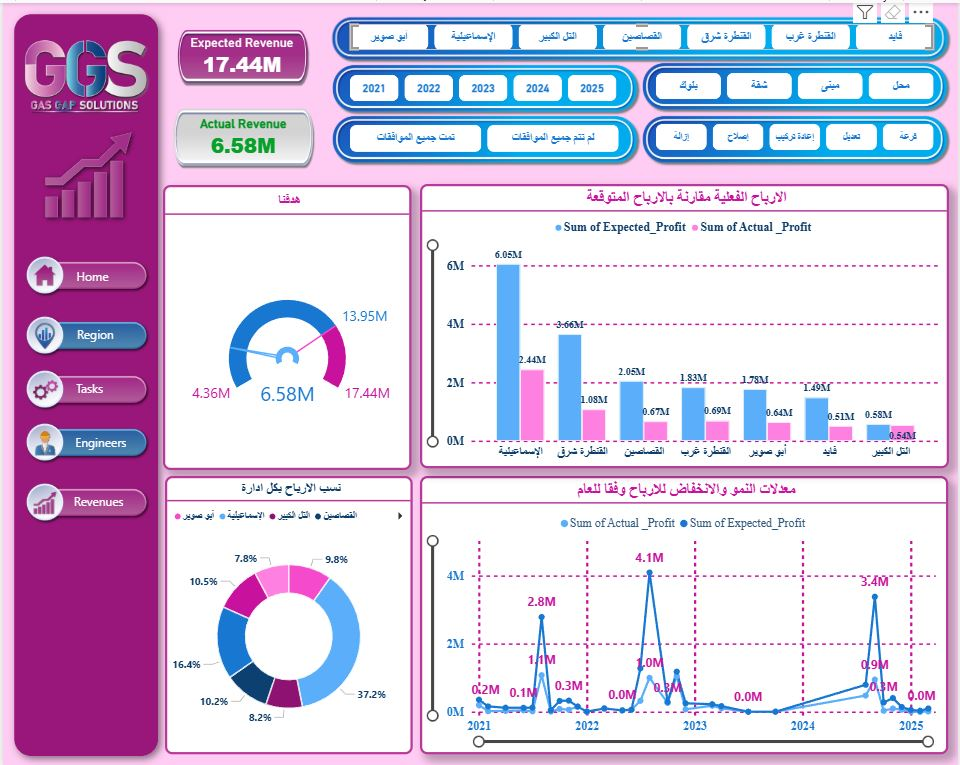

What the dashboard file says about the page in this screenshot:
{"tool":"powerbi","page":{"name":"Revenues","canvas":[1280,1024],"ordinal":4},"visuals":[{"type":"image","box":[219.6,130,205,101.7],"z":0},{"type":"image","box":[212.1,28.3,220,90],"z":1000},{"type":"image","box":[428.6,0,851.4,95.7],"z":2000},{"type":"image","box":[428.6,99.1,435.7,168.6],"z":3000},{"type":"image","box":[844.3,99.1,435.7,168.6],"z":4000},{"type":"image","box":[844.3,28.7,435.7,168.6],"z":5000},{"type":"image","box":[428.6,30.2,435.7,168.6],"z":6000},{"type":"advancedSlicerVisual","title":"المنطقة - الادارة","fields":{"Values":["Region1.Region_Name"]},"box":[465,28.3,783.3,35],"z":7000},{"type":"advancedSlicerVisual","title":"السنة","fields":{"Values":["Customers.Order_Date.Variation.Date Hierarchy.Year"]},"box":[465,96.2,361.2,35],"z":8000},{"type":"advancedSlicerVisual","title":"نوع المبني","fields":{"Values":["Building.Building_Type"]},"box":[875,93.8,373.8,35],"z":9000},{"type":"advancedSlicerVisual","title":"المهمة المطلوبة","fields":{"Values":["To_Do.To_Do"]},"box":[875,162.5,373.8,35],"z":10000},{"type":"advancedSlicerVisual","title":"نوع الموافقة","fields":{"Values":["Customers.Approve"]},"box":[465,163.8,361.2,36.2],"z":11000},{"type":"card","title":"Actual Revenue","fields":{"Values":["Sum(Cost_Profit.Net_Profit_Done)"]},"box":[235,151.7,175,65],"z":12000},{"type":"shape","box":[0,0,222.9,1024.3],"z":13000},{"type":"image","box":[15.7,35.7,190,125.7],"z":14000},{"type":"image","box":[15.7,308.4,192,112],"z":15000},{"type":"image","box":[15.7,396.4,192,96],"z":16000},{"type":"image","box":[15.7,468.4,192,96],"z":17000},{"type":"image","box":[15.7,540.4,192,96],"z":18000},{"type":"image","box":[15.7,612.4,192,112],"z":19000},{"type":"actionButton","box":[63.1,334.6,114.3,60],"z":20000},{"type":"actionButton","box":[60,420,127.1,48.6],"z":21000},{"type":"actionButton","box":[60,484.3,111.4,64.3],"z":22000},{"type":"actionButton","box":[58.6,555.7,144.3,64.3],"z":23000},{"type":"actionButton","box":[64.3,643.2,128,48],"z":24000},{"type":"card","title":"Expected Revenue","fields":{"Values":["Sum(Cost_Profit.Net_Profit)"]},"box":[238.3,43.3,163.3,63.3],"z":25000},{"type":"Tachometer1474636471549","title":"هدفنا","fields":{"Y":["Sum(Cost_Profit.Net_Profit_Done)"],"StartValue":["Sum(Cost_Profit.Minimum_Target)"],"EndValue":["Sum(Cost_Profit.Net_Profit)"],"TargetValue":["Sum(Cost_Profit.Target)"],"Range2StartValue":["Sum(Cost_Profit.Target)"]},"box":[215,243.3,333.3,381.7],"z":26000},{"type":"lineChart","title":"معدلات النمو والانخفاض للارباح وفقا للعام","fields":{"Y":["Sum(Cost_Profit.Net_Profit_Done)","Sum(Cost_Profit.Net_Profit)"],"Category":["Customers.Order_Date.Variation.Date Hierarchy.Year","Customers.Order_Date.Variation.Date Hierarchy.Quarter","Customers.Order_Date.Variation.Date Hierarchy.Month","Customers.Order_Date.Variation.Date Hierarchy.Day"]},"box":[558.3,633.3,708.3,373.3],"z":27000},{"type":"clusteredColumnChart","title":"الارباح الفعلية مقارنة بالارباح المتوقعة","fields":{"Y":["Sum(Cost_Profit.Net_Profit)","Sum(Cost_Profit.Net_Profit_Done)"],"Category":["Region1.Region_Name"]},"box":[558.6,242.9,708.6,381.4],"z":28000},{"type":"donutChart","title":"نسب الارباح بكل ادارة","fields":{"Category":["Region1.Region_Name"],"Y":["Sum(Cost_Profit.Actual _Profit)"]},"box":[216.7,633.3,331.7,373.3],"z":29000},{"type":"image","box":[36.7,153.3,156.7,155],"z":30000}]}

Visuals, with their boxes on the page's 1280x1024 design canvas (x1, y1, x2, y2). These are canvas units, not pixel positions in the 960x765 screenshot, which may show the page scaled, cropped or inside an application window:
image: rect(220, 130, 425, 232)
image: rect(212, 28, 432, 118)
image: rect(429, 0, 1280, 96)
image: rect(429, 99, 864, 268)
image: rect(844, 99, 1280, 268)
image: rect(844, 29, 1280, 197)
image: rect(429, 30, 864, 199)
"المنطقة - الادارة" advancedSlicerVisual: rect(465, 28, 1248, 63)
"السنة" advancedSlicerVisual: rect(465, 96, 826, 131)
"نوع المبني" advancedSlicerVisual: rect(875, 94, 1249, 129)
"المهمة المطلوبة" advancedSlicerVisual: rect(875, 162, 1249, 198)
"نوع الموافقة" advancedSlicerVisual: rect(465, 164, 826, 200)
"Actual Revenue" card: rect(235, 152, 410, 217)
shape: rect(0, 0, 223, 1024)
image: rect(16, 36, 206, 161)
image: rect(16, 308, 208, 420)
image: rect(16, 396, 208, 492)
image: rect(16, 468, 208, 564)
image: rect(16, 540, 208, 636)
image: rect(16, 612, 208, 724)
actionButton: rect(63, 335, 177, 395)
actionButton: rect(60, 420, 187, 469)
actionButton: rect(60, 484, 171, 549)
actionButton: rect(59, 556, 203, 620)
actionButton: rect(64, 643, 192, 691)
"Expected Revenue" card: rect(238, 43, 402, 107)
"هدفنا" Tachometer1474636471549: rect(215, 243, 548, 625)
"معدلات النمو والانخفاض للارباح وفقا للعام" lineChart: rect(558, 633, 1267, 1007)
"الارباح الفعلية مقارنة بالارباح المتوقعة" clusteredColumnChart: rect(559, 243, 1267, 624)
"نسب الارباح بكل ادارة" donutChart: rect(217, 633, 548, 1007)
image: rect(37, 153, 193, 308)
